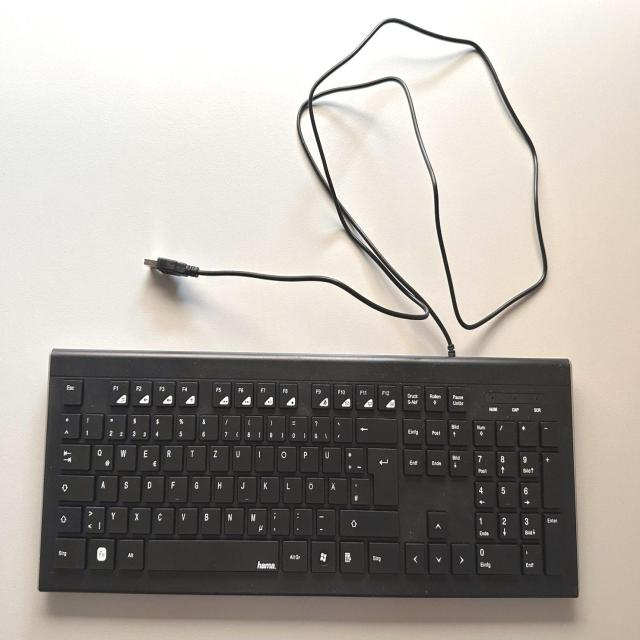0: (286, 414, 307, 442)
1: (81, 412, 102, 439)
2: (104, 412, 126, 439)
3: (128, 412, 148, 440)
4: (151, 412, 171, 439)
5: (174, 412, 194, 440)
6: (198, 412, 218, 440)
7: (220, 413, 240, 440)
8: (242, 414, 262, 441)
9: (265, 414, 285, 441)
a: (96, 473, 116, 501)
accent: (331, 414, 351, 442)
ae: (326, 476, 347, 504)
alt-left: (115, 537, 143, 570)
altgr-right: (280, 537, 307, 571)
b: (199, 505, 220, 534)
c: (151, 505, 173, 533)
caret: (58, 411, 78, 437)
comma: (268, 505, 289, 535)
d: (141, 474, 163, 502)
del: (354, 415, 396, 442)
e: (137, 442, 158, 470)
enter: (366, 446, 397, 506)
f: (166, 474, 186, 501)
g: (188, 474, 209, 501)
h: (212, 474, 232, 502)
hash: (349, 475, 370, 505)
i: (253, 443, 273, 471)
j: (235, 474, 255, 502)
k: (258, 475, 278, 503)
keyboard: (37, 348, 579, 598)
l: (281, 475, 301, 503)
less: (82, 503, 103, 533)
m: (245, 505, 265, 535)
minus: (314, 506, 335, 536)
n: (222, 505, 242, 534)
o: (275, 443, 295, 471)
oe: (303, 475, 324, 503)
p: (298, 444, 318, 471)
plus: (342, 445, 363, 473)
point: (291, 506, 312, 535)
q: (91, 442, 112, 470)
r: (161, 443, 181, 470)
s: (118, 474, 139, 501)
shift-left: (54, 505, 79, 533)
shift-lock: (56, 473, 93, 500)
shift-right: (338, 508, 397, 535)
space: (144, 537, 278, 570)
ss: (309, 415, 329, 442)
strg-left: (50, 536, 84, 568)
strg-right: (366, 539, 400, 573)
t: (184, 443, 205, 470)
tab: (57, 442, 89, 470)
u: (230, 443, 250, 471)
ue: (320, 445, 340, 472)
v: (175, 505, 196, 533)
w: (115, 442, 135, 470)
x: (129, 505, 150, 533)
y: (105, 504, 126, 532)
z: (207, 443, 227, 471)
